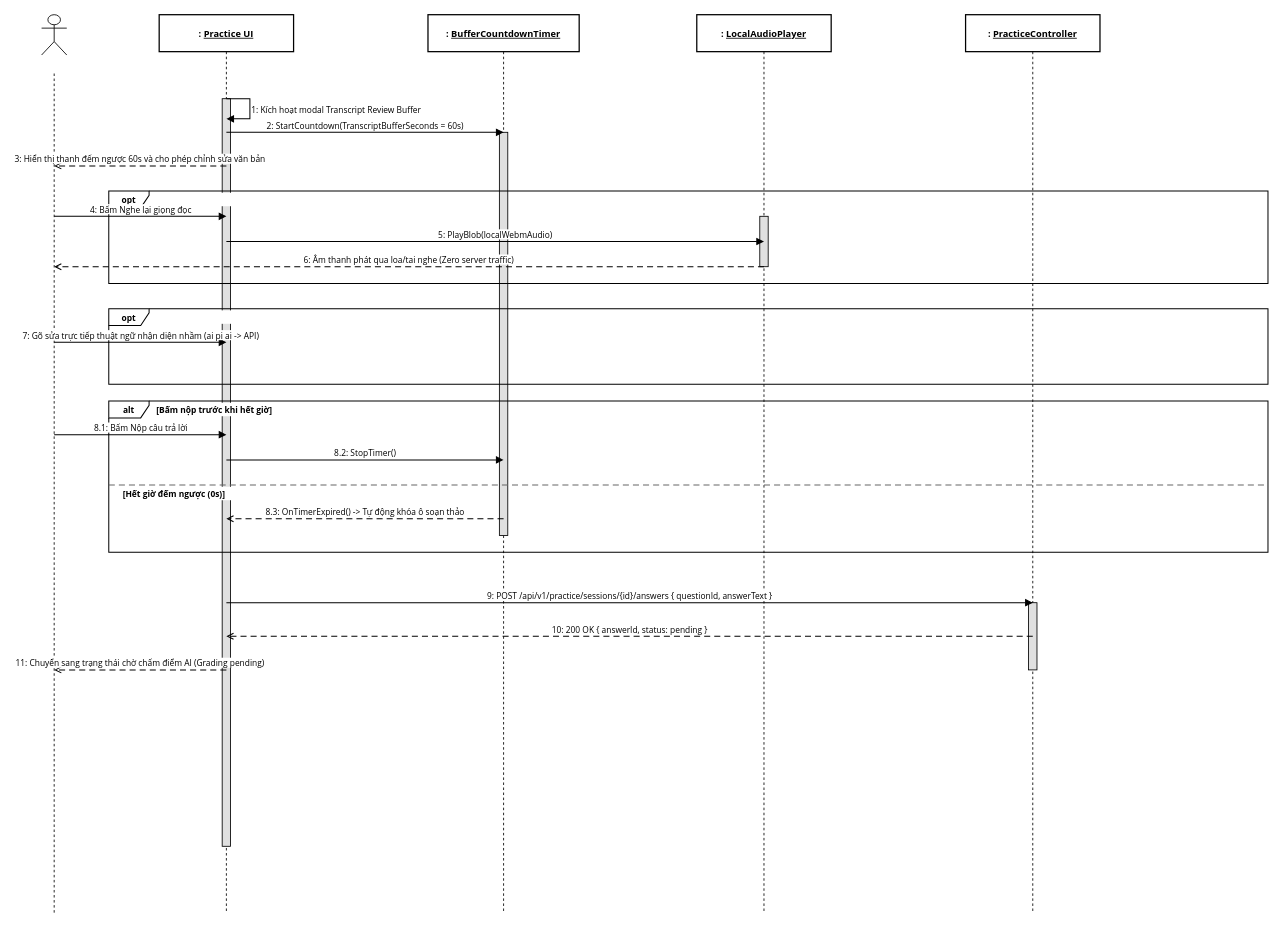
This 1284x930 diagram has some shape labels left out. The shapes that lost their labels are listed below. From the top down, each one's centre as x and y in pixels, then its label:
At pixel 54 34: ": Sinh viên".
At pixel 266 199: "[Sinh viên nghe lại giọng đọc cục bộ]".
At pixel 289 316: "[Sinh viên sửa thuật ngữ SE (Code-Switching)]".
